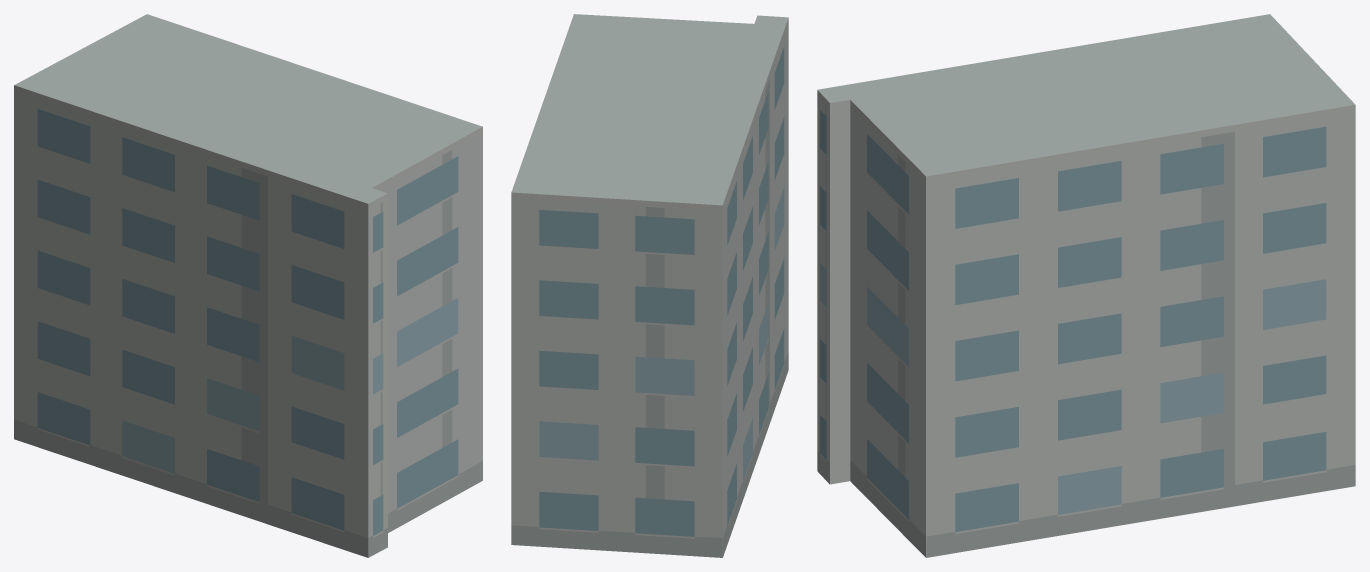
Rendered from survey-upis-33024990.glb.
3 renders of one model, left to right at view 1: azimuth 30°, elevation 25°; view 2: azimuth 150°, elevation 25°; view 3: azimuth 270°, elevation 25°, orthographic. The views are drawn at different scales.
Visible parts, largest first — view 1: survey-upis-33024990.tmp; view 2: survey-upis-33024990.tmp; view 3: survey-upis-33024990.tmp.
Boxes of the visible parts, x1,y1,x2,y2 form: survey-upis-33024990.tmp: (14, 14, 482, 557); survey-upis-33024990.tmp: (511, 14, 788, 557); survey-upis-33024990.tmp: (817, 14, 1355, 557).
Size of the model in its own units: 12.8 by 14 by 17.92.
